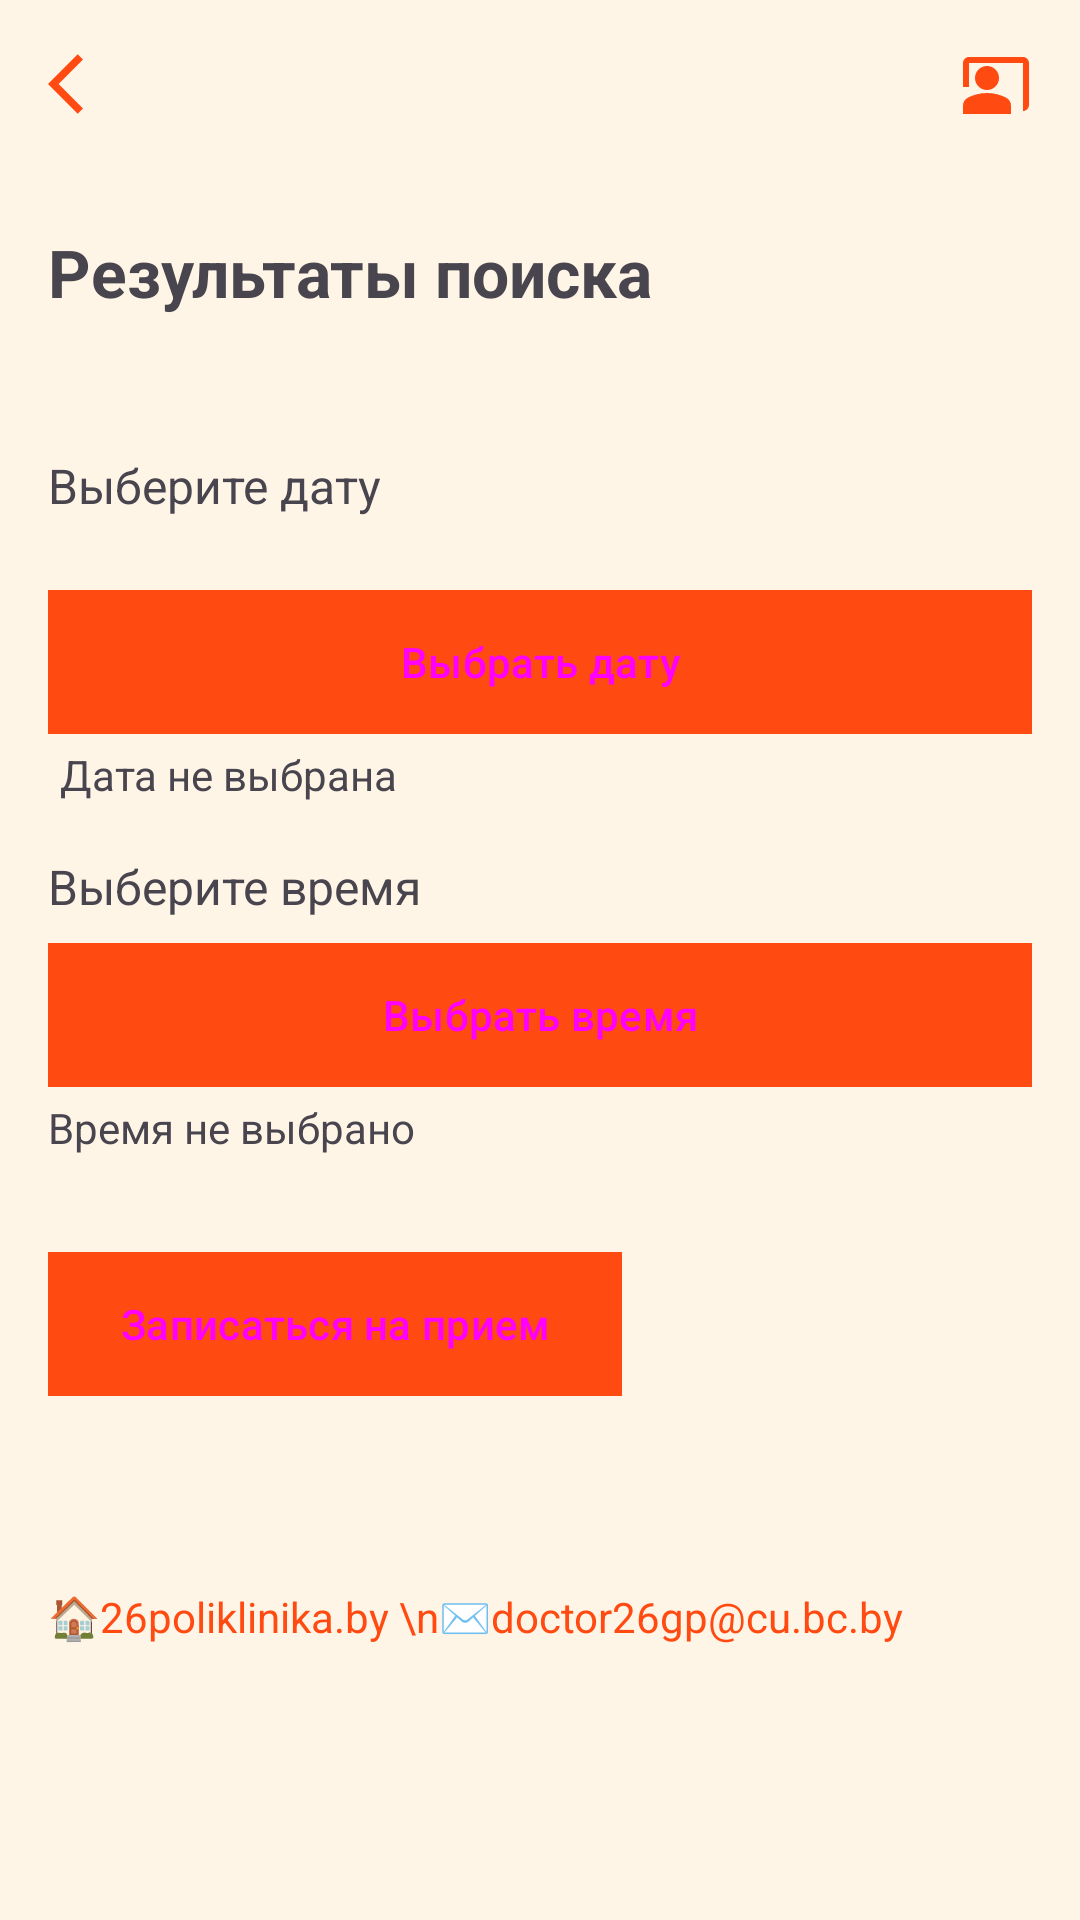

Locate icon controls on the screen. Image size 1080 × 1920, boxes as (x1, y1, x2, y2).
Назад: (48, 54, 83, 114)
Профиль: (963, 57, 1029, 114)
